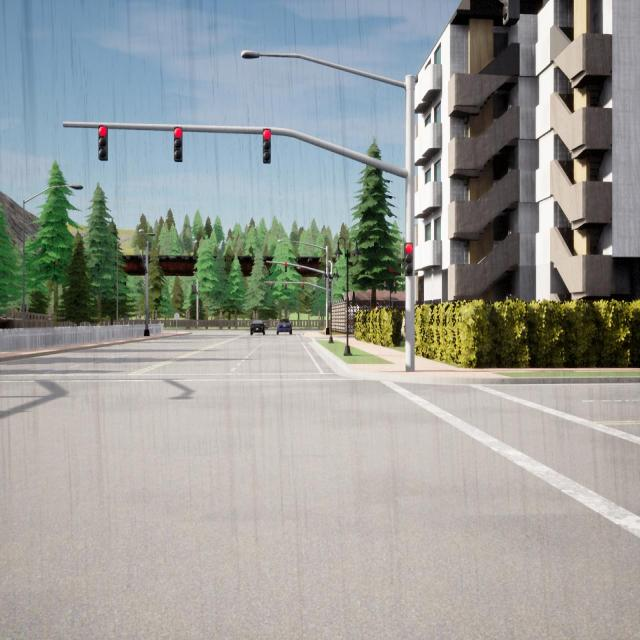Traffic_Signs: (174, 313, 179, 319)
Vehicle: (276, 318, 292, 335), (250, 319, 265, 336)
traffic_light: (500, 0, 521, 28), (98, 125, 108, 160), (404, 243, 413, 276), (174, 127, 182, 162), (263, 130, 271, 164), (285, 262, 287, 272), (270, 282, 272, 290), (285, 282, 287, 290), (198, 306, 200, 313), (302, 283, 304, 289), (192, 285, 193, 293), (194, 286, 195, 292)
